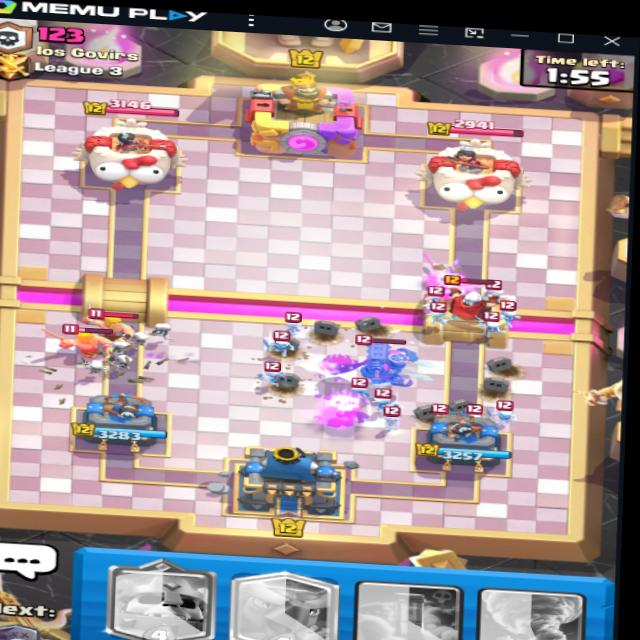Barbarian: (74, 310, 153, 343), (52, 326, 120, 363)
Marcher: (440, 289, 492, 317)
skellyking: (335, 335, 426, 395)
